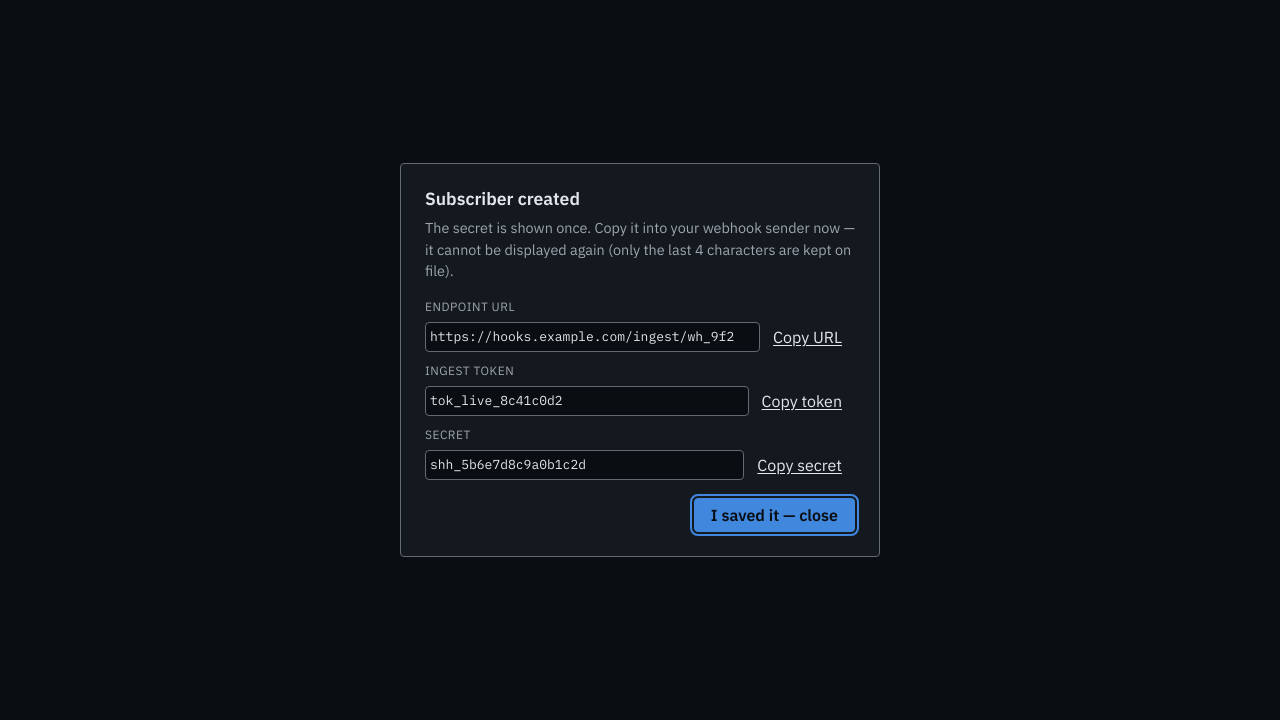
Test: SecretRevealModal › copies the endpoint URL to the clipboard from the copy button
Click the button "Copy URL": x=808, y=337 [768,320,847,354]
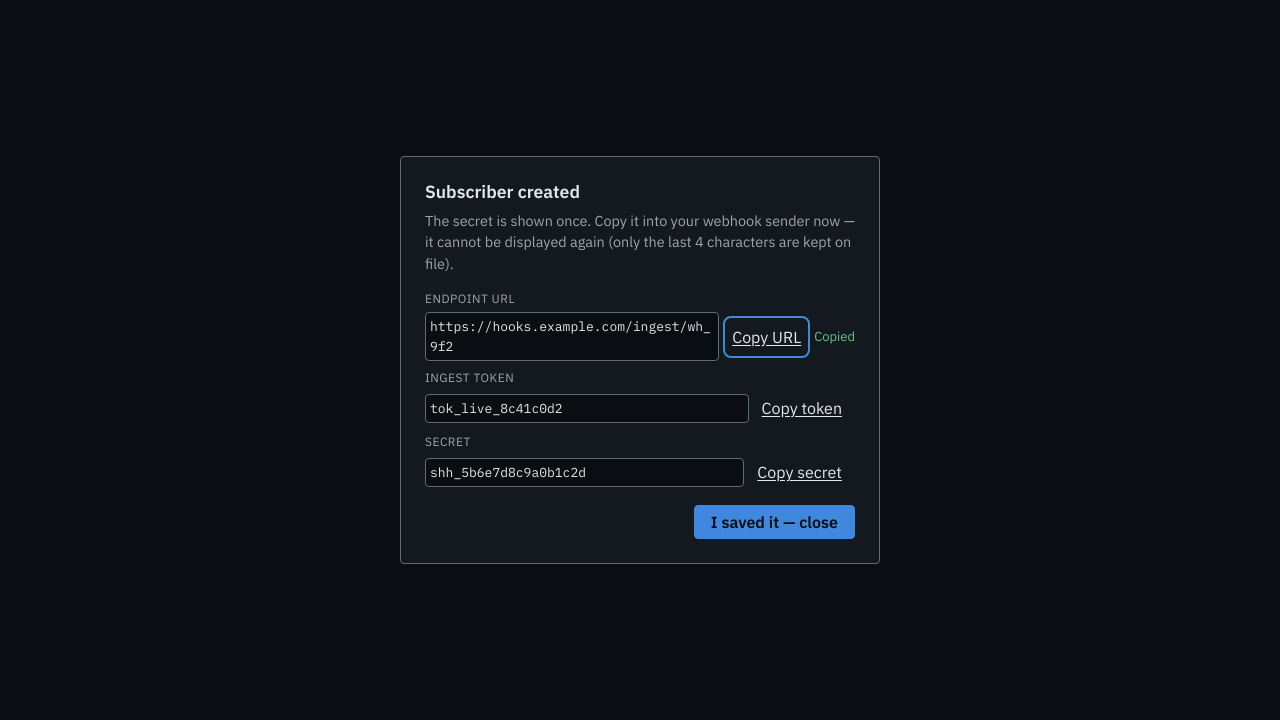
Expected: the text "Copied" is shown, [814,327,855,347]
